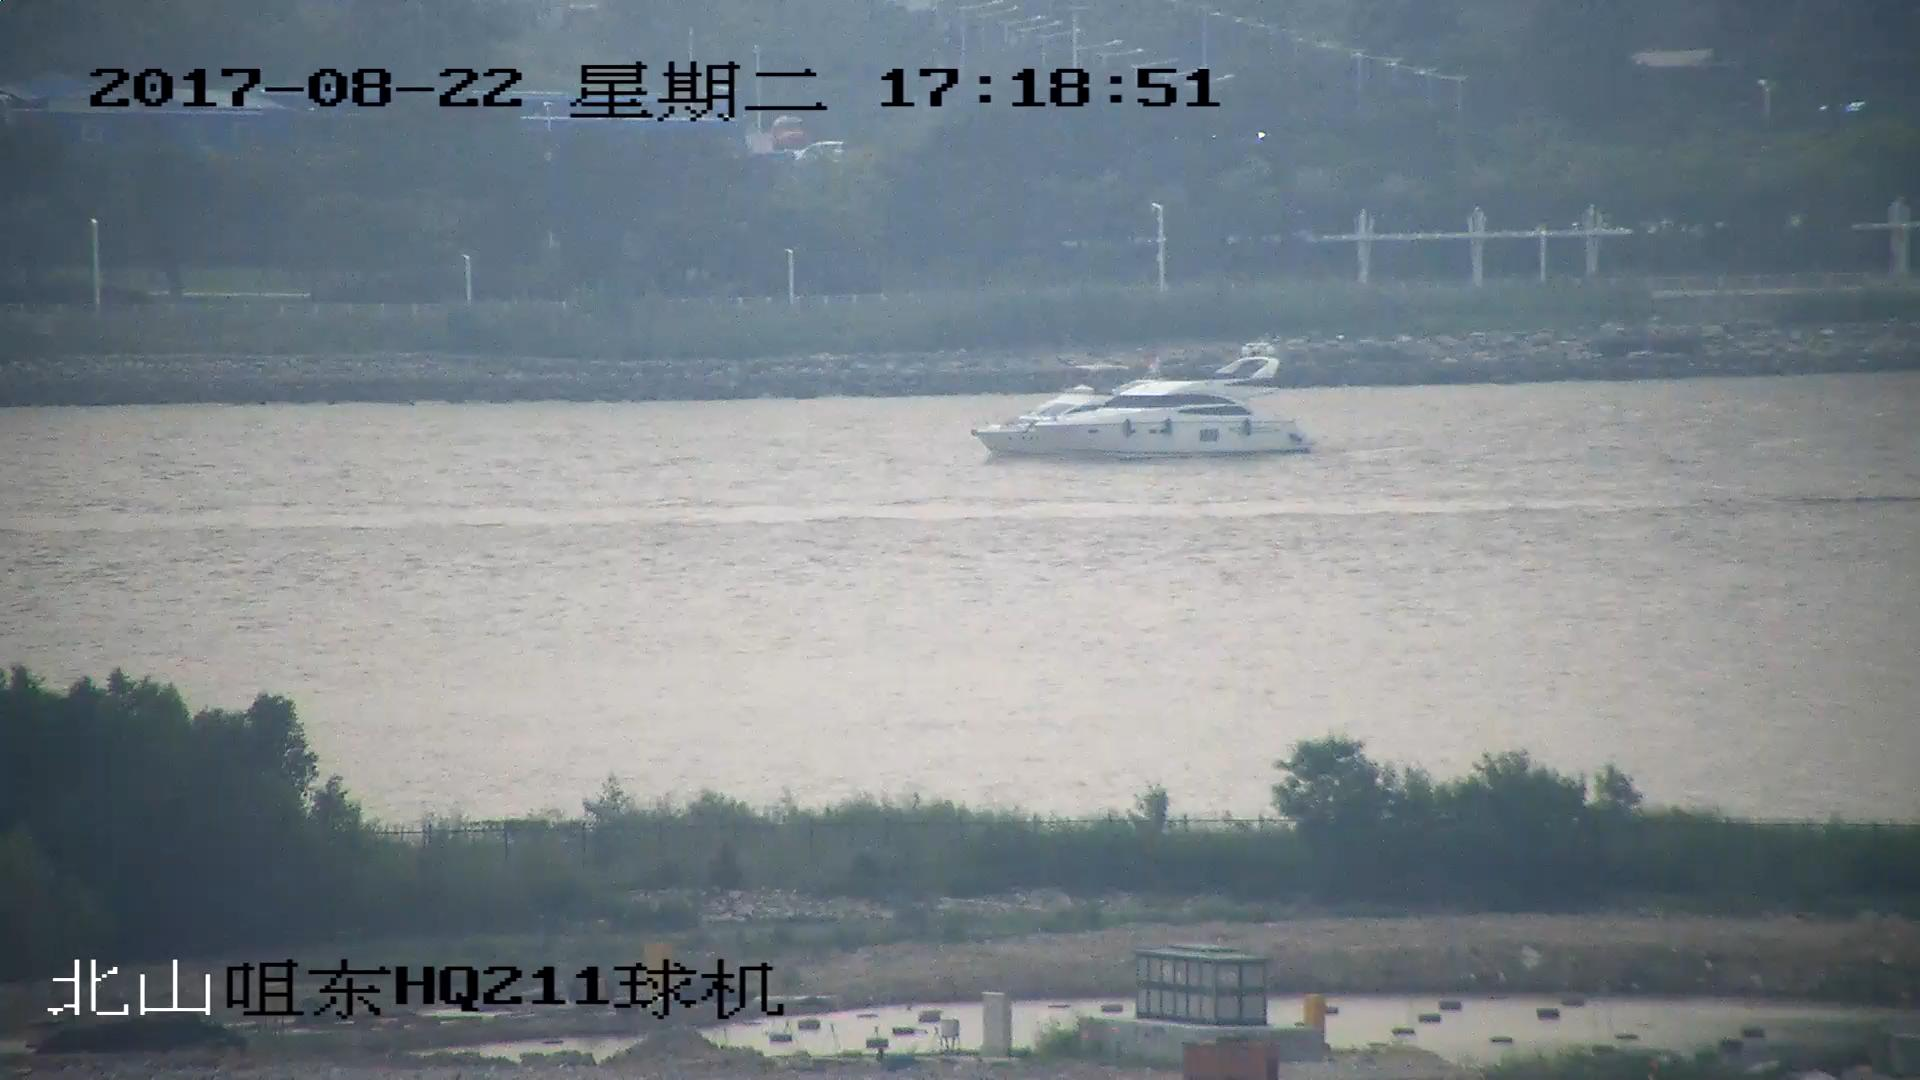passenger ship: (972, 341, 1314, 459)
